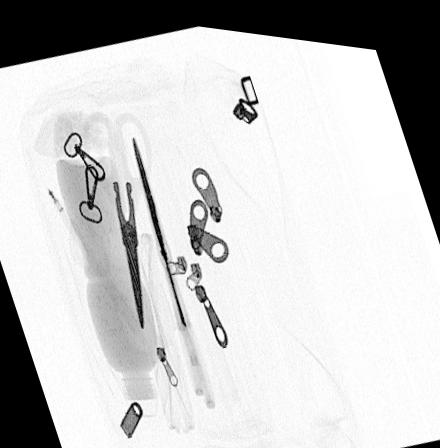Scissors: (128, 130, 216, 404), (78, 100, 156, 331)
